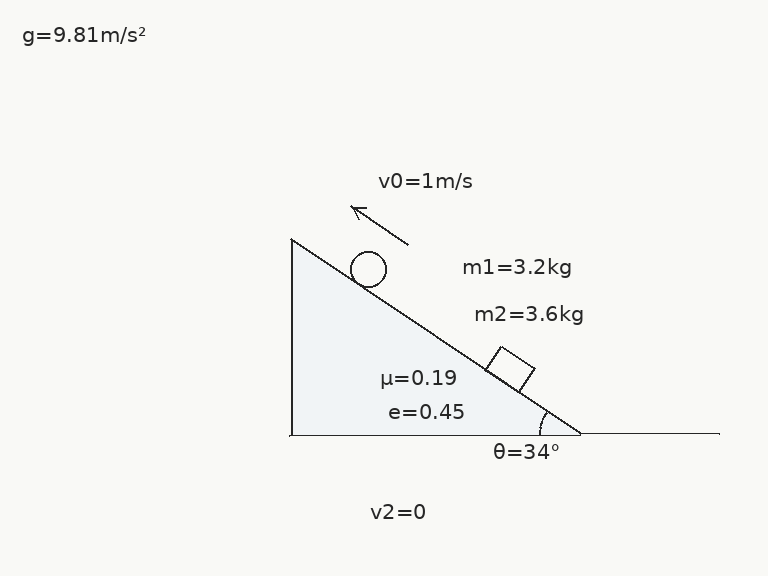ball: (348, 249, 388, 289)
block: (483, 344, 536, 394)
ramp: (289, 237, 582, 436)
